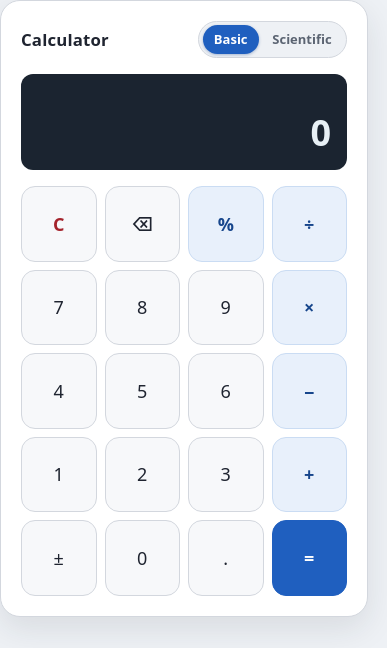
Test: Calculator entry › starts a fresh number after a result
Click the button "1". click: (59, 475)
box: [21,437,96,512]
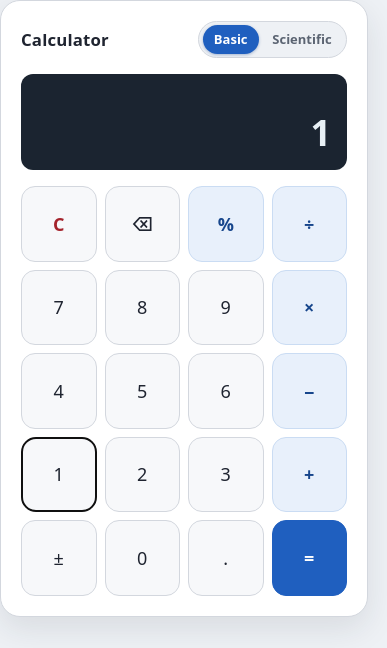
Click the button "0". click: (142, 558)
box: [104,520,180,596]
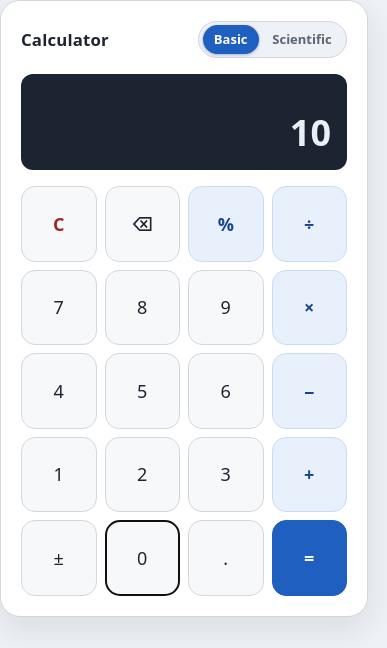
Click the button named "Add". click: (309, 475)
box: [272,437,347,512]
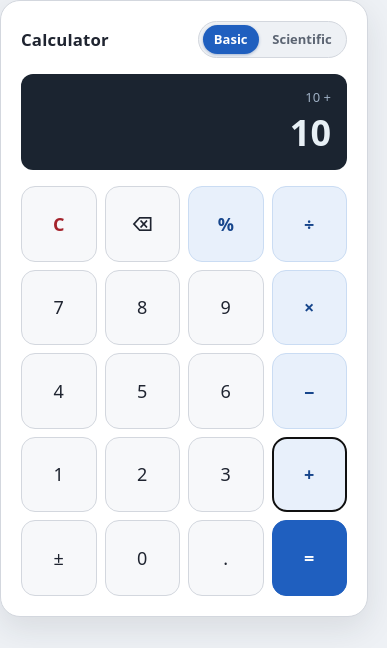
Click the button "5". click: (142, 391)
box: [104,354,180,429]
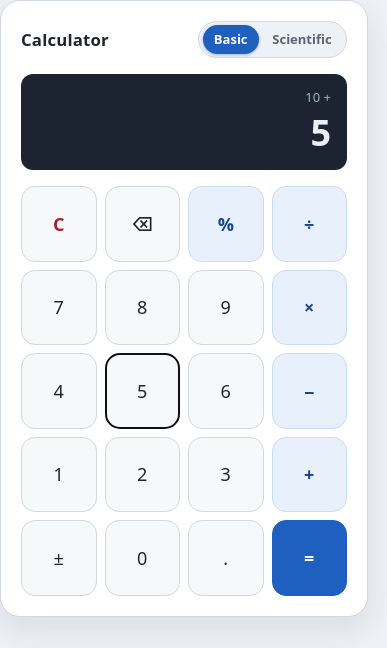
Click the button named "Equals". click: (309, 558)
box: [272,520,347,596]
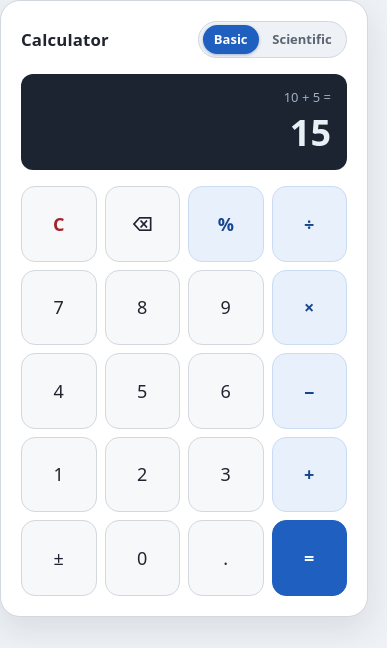
Expected: the text "15" is shown, [290,112,331,154]
Click the button "7". click: (59, 308)
box: [21,270,96,346]
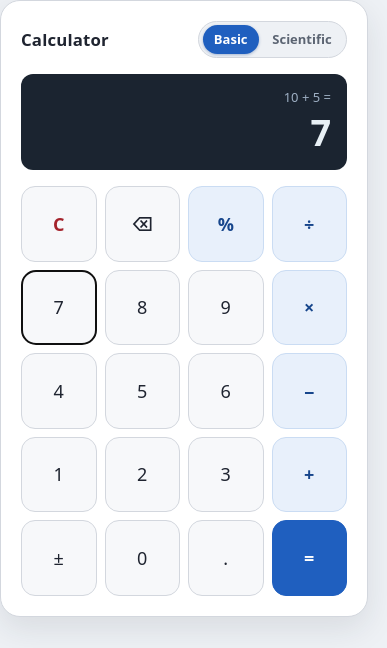
Expected: the text "7" is shown, [310,112,331,154]
